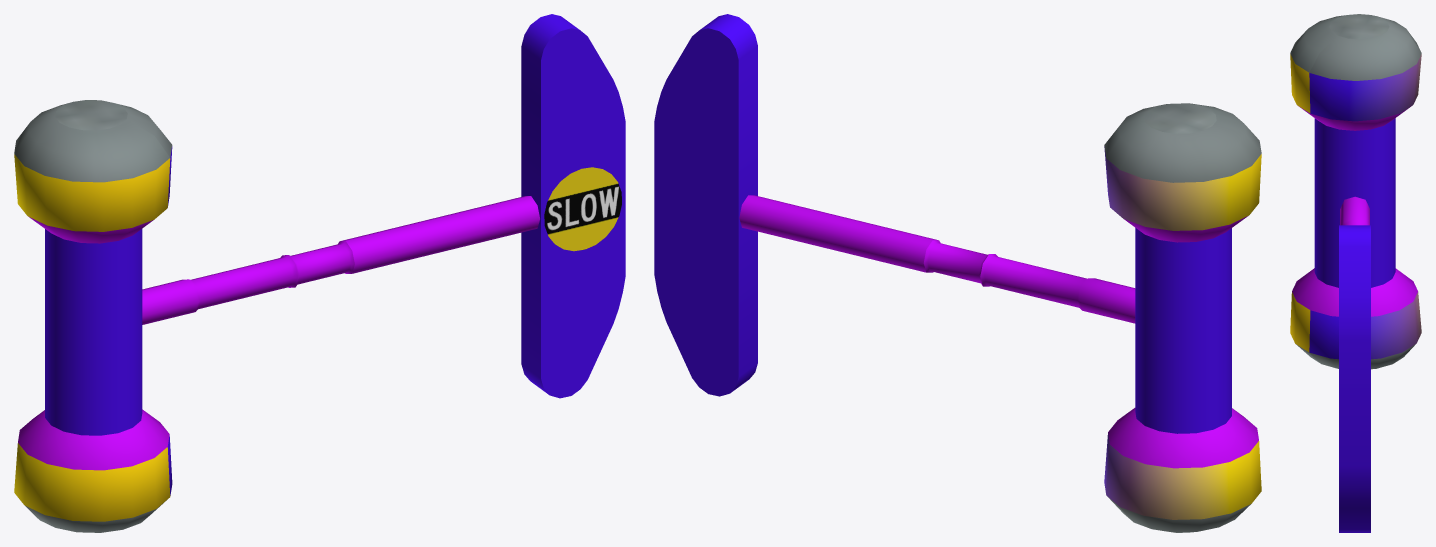
The picture shows the model from 3 angles, left to right: view 1: azimuth 30°, elevation 25°; view 2: azimuth 150°, elevation 25°; view 3: azimuth 270°, elevation 25°; orthographic projection. The views are drawn at different scales.
Parts seen in each view (by area): view 1: H3; view 2: H3; view 3: H3.
Part boxes in pixels (<box>): H3: <box>14,14,625,532</box>; H3: <box>654,14,1261,532</box>; H3: <box>1290,14,1421,532</box>.
Size of the model in its own units: 6.66 by 4.34 by 1.56.
